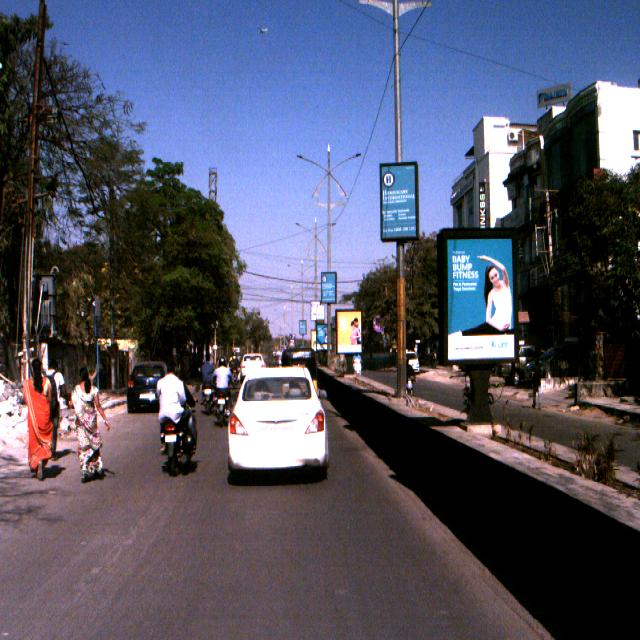car ahead at: (225, 362, 328, 482)
motorcycle ahead at: (153, 410, 204, 474)
person ahead at: (18, 356, 67, 486), (69, 369, 110, 485)
